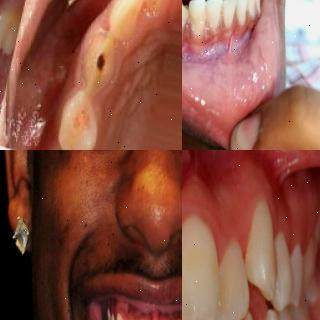cavities: (97, 55, 105, 71)
maligned: (249, 185, 281, 291)
plaque: (211, 247, 239, 320), (188, 16, 252, 44), (182, 239, 189, 293)
